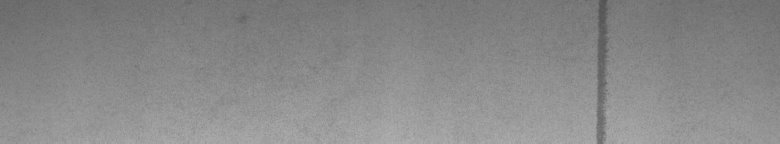hd: (592, 4, 612, 136)
